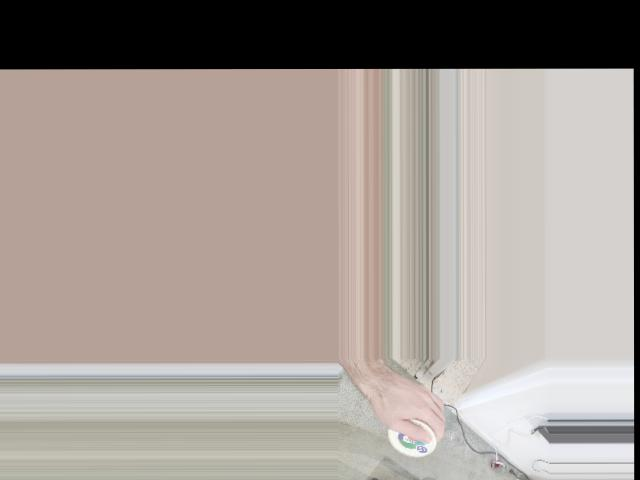cotage: (387, 414, 436, 457)
